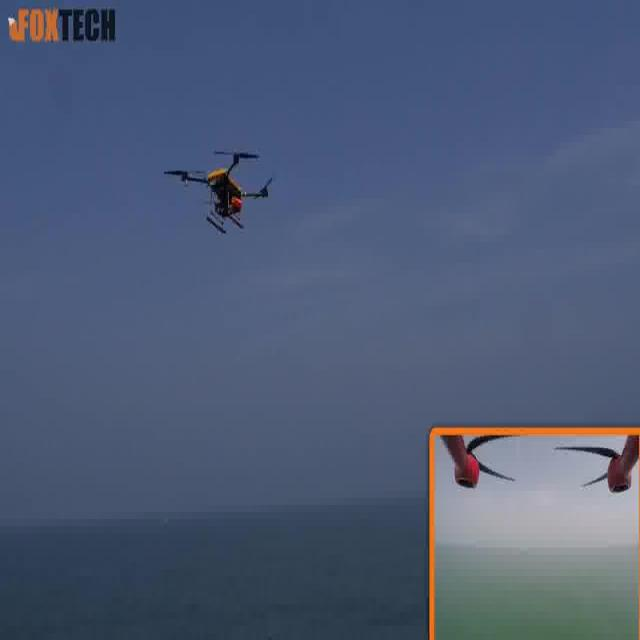drone: (165, 132, 269, 255)
